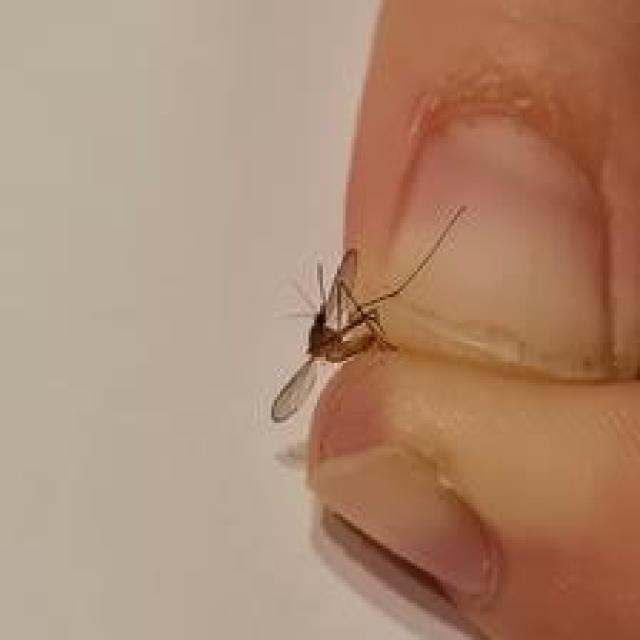Culex: (268, 202, 472, 424)
